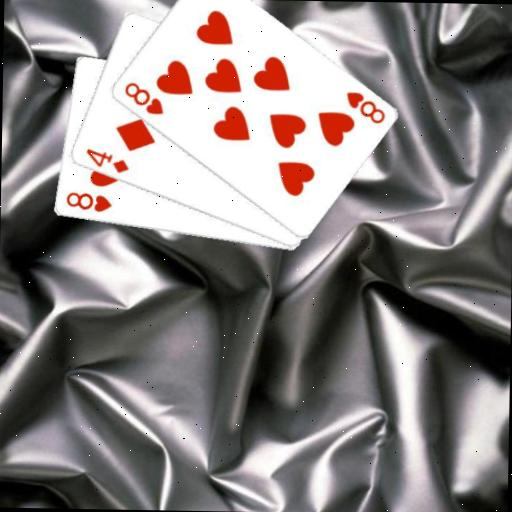4D: (82, 146, 130, 176)
8H: (119, 79, 165, 117), (342, 88, 387, 126), (63, 189, 114, 215)
